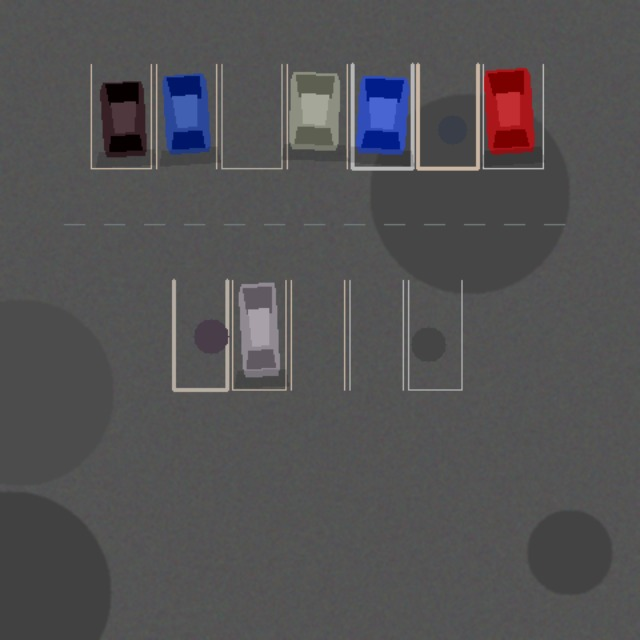space-empty: (221, 64, 281, 168), (417, 64, 477, 168), (173, 280, 227, 389), (349, 280, 403, 389), (291, 280, 344, 389), (408, 280, 461, 389)
space-occupied: (91, 64, 151, 168), (156, 64, 216, 168), (287, 64, 347, 168), (352, 64, 412, 168), (483, 64, 543, 168), (232, 280, 285, 389)
